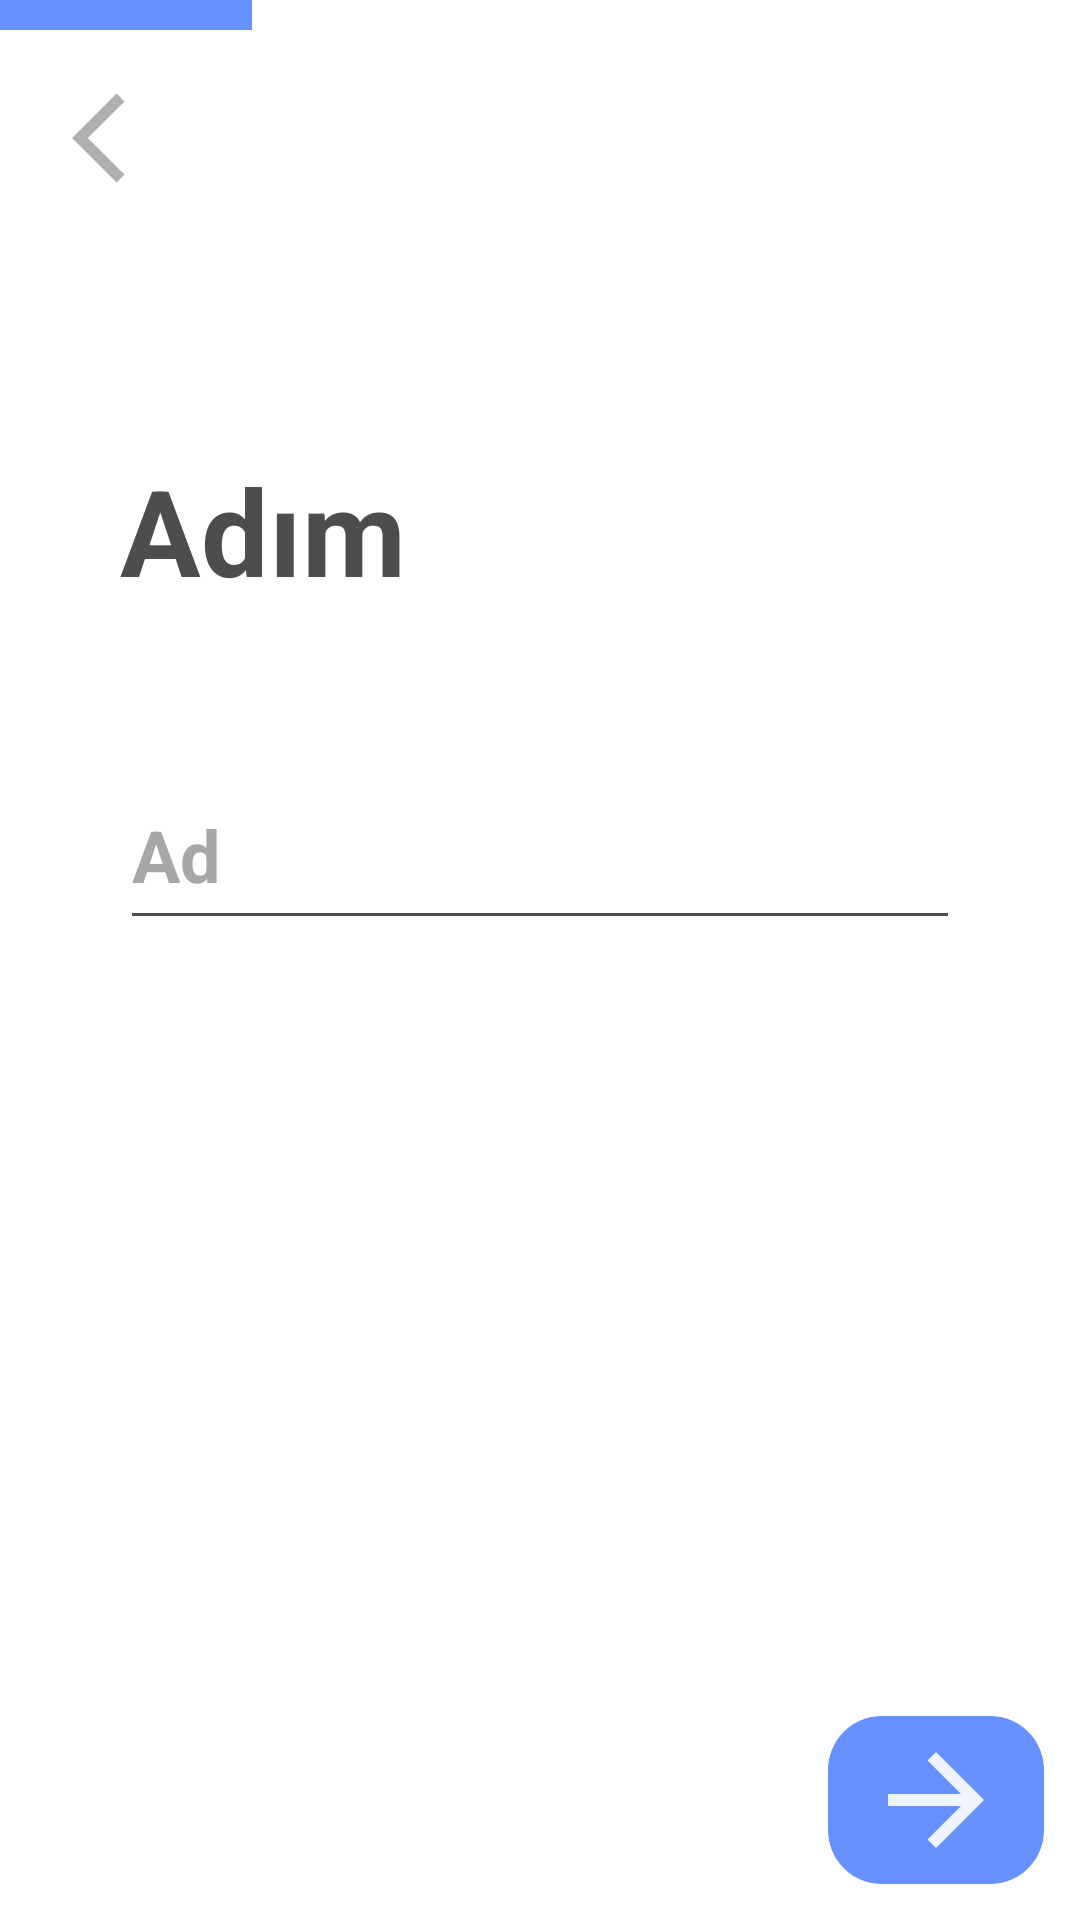

Locate icon controls on the screen. Image size 1080 × 1920, boxes as (x1, y1, x2, y2).
arrow back: (72, 94, 124, 182)
arrow forward: (828, 1716, 1044, 1884)
